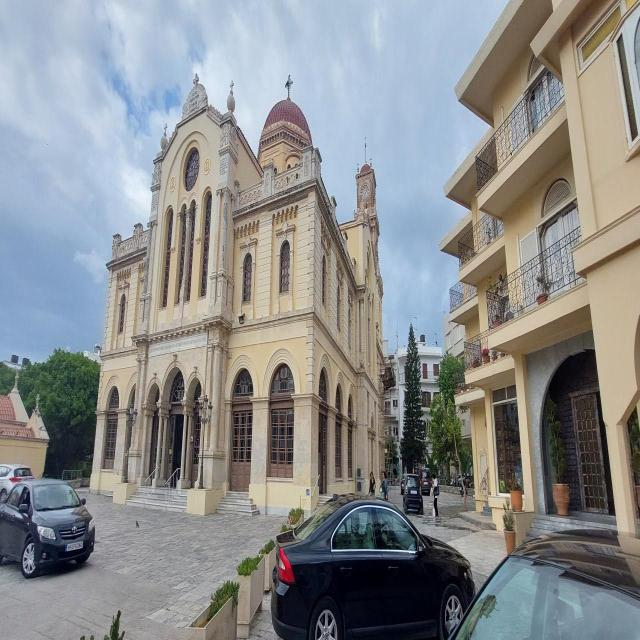Agios Minas: (89, 64, 391, 516)
